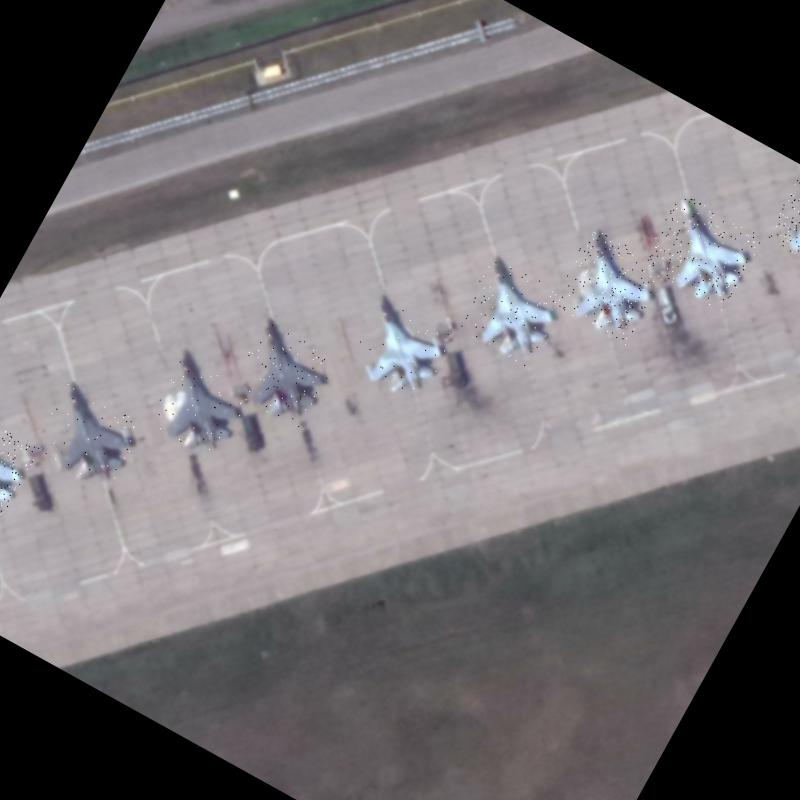A1: (638, 191, 764, 313), (548, 226, 668, 345), (29, 382, 146, 496), (224, 318, 339, 432), (453, 255, 568, 368), (341, 294, 455, 406), (141, 352, 254, 464), (0, 406, 39, 526), (765, 166, 800, 279)
